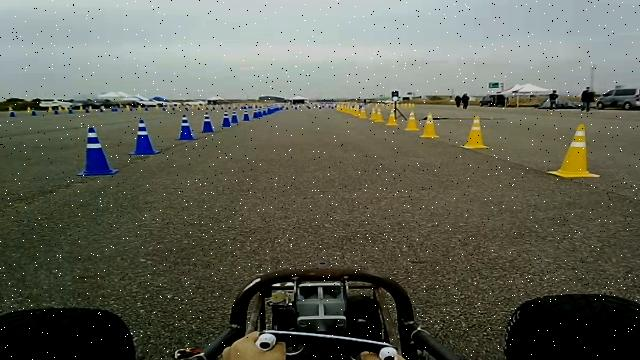blue cone: (76, 126, 118, 176), (128, 118, 160, 154), (174, 114, 197, 140), (200, 110, 214, 132), (220, 110, 232, 128), (267, 105, 282, 115), (230, 110, 239, 124), (242, 110, 250, 121)
yellow cone: (546, 124, 600, 178), (459, 115, 489, 149), (419, 112, 439, 138), (404, 111, 419, 131), (386, 110, 398, 126), (372, 106, 384, 122), (358, 106, 368, 119)
